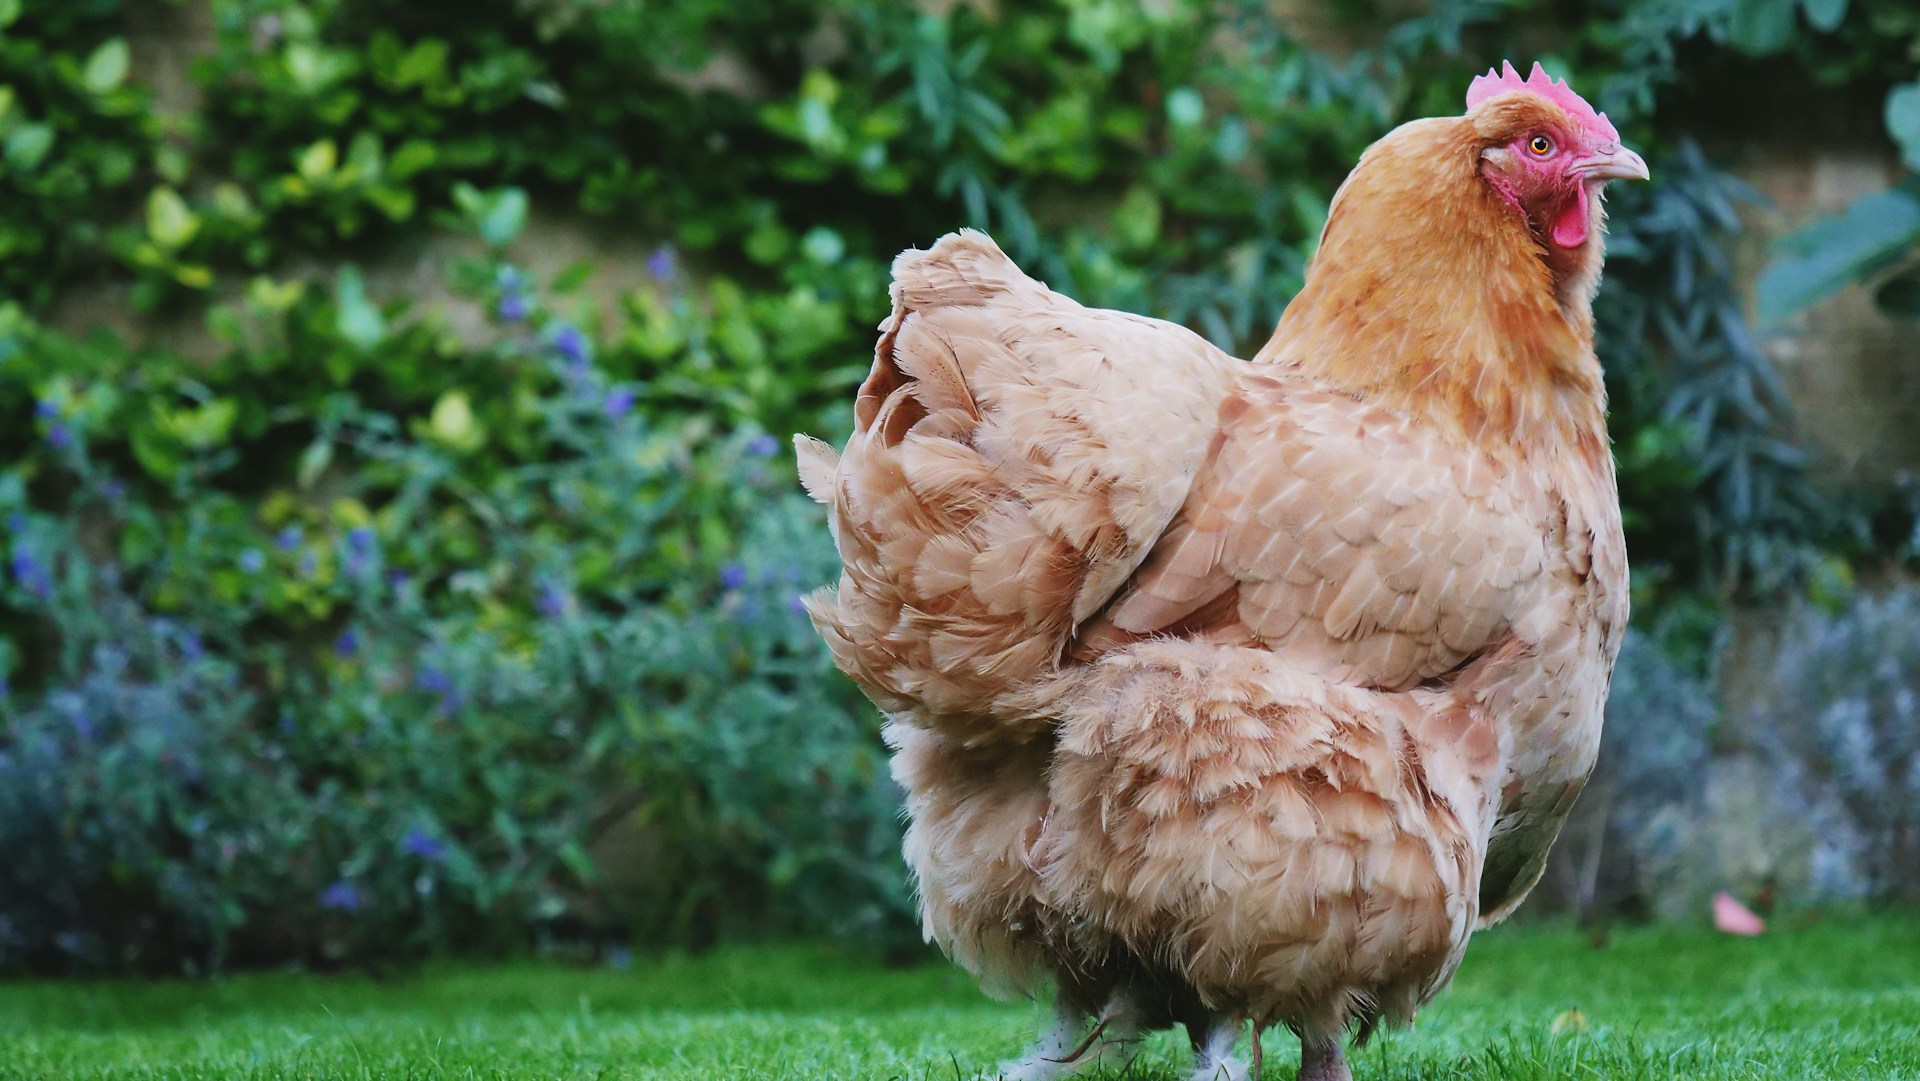hen: (781, 58, 1677, 1081)
